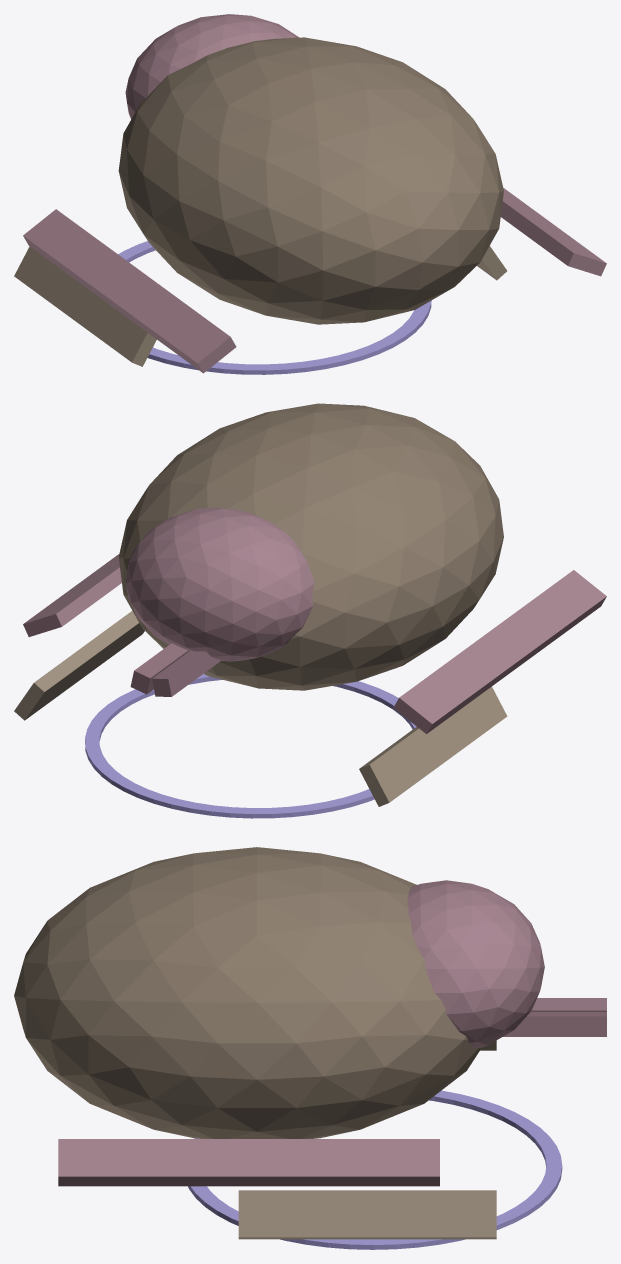
Rendered from zglengo_brood_carrier.glb.
3 views of the same model, one above another, from view 1: azimuth 30°, elevation 25°; view 2: azimuth 150°, elevation 25°; view 3: azimuth 270°, elevation 25° (orthographic). The views are drawn at different scales.
Visible parts, largest first — view 1: body, wing_-1_1.45, back_sac_mass, wing_-1_0.98, hover_ring, wing_1_1.45, wing_1_0.98; view 2: body, back_sac_mass, wing_-1_1.45, wing_-1_0.98, hover_ring, wing_1_0.98, wing_1_1.45, tendril_2, tendril_3; view 3: body, wing_1_1.45, back_sac_mass, wing_1_0.98, hover_ring, tendril_3, tendril_2, tendril_1.
Part boxes in pixels (x1=…): body: x1=118, y1=37, x2=503, y2=324; wing_-1_1.45: x1=23, y1=209, x2=236, y2=373; back_sac_mass: x1=125, y1=14, x2=299, y2=119; wing_-1_0.98: x1=14, y1=246, x2=156, y2=366; hover_ring: x1=118, y1=241, x2=431, y2=374; wing_1_1.45: x1=500, y1=188, x2=606, y2=276; wing_1_0.98: x1=477, y1=246, x2=506, y2=280; body: x1=118, y1=403, x2=503, y2=690; back_sac_mass: x1=125, y1=508, x2=314, y2=661; wing_-1_1.45: x1=393, y1=570, x2=606, y2=733; wing_-1_0.98: x1=359, y1=686, x2=507, y2=806; hover_ring: x1=85, y1=673, x2=416, y2=818; wing_1_0.98: x1=14, y1=610, x2=144, y2=720; wing_1_1.45: x1=23, y1=554, x2=121, y2=636; tendril_2: x1=152, y1=652, x2=213, y2=696; tendril_3: x1=130, y1=650, x2=188, y2=694; body: x1=14, y1=847, x2=481, y2=1138; wing_1_1.45: x1=58, y1=1139, x2=439, y2=1186; back_sac_mass: x1=407, y1=880, x2=544, y2=1047; wing_1_0.98: x1=238, y1=1190, x2=496, y2=1239; hover_ring: x1=188, y1=1090, x2=562, y2=1249; tendril_3: x1=504, y1=1011, x2=606, y2=1036; tendril_2: x1=532, y1=998, x2=606, y2=1011; tendril_1: x1=503, y1=1011, x2=548, y2=1036.
Size of the model in its own units: 1.96 by 1.25 by 2.25.
